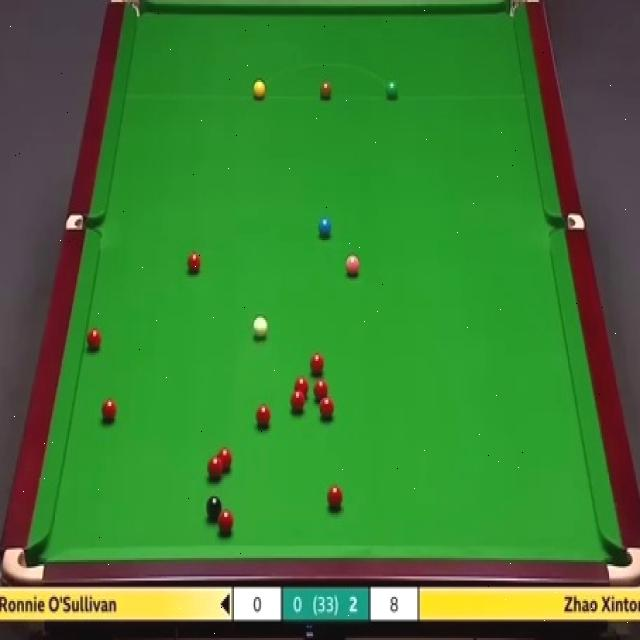black-ball: (205, 493, 223, 518)
blue-ball: (318, 216, 332, 241)
brown-ball: (319, 80, 332, 99)
green-ball: (384, 81, 398, 99)
pink-ball: (345, 256, 361, 279)
red-ball: (217, 508, 234, 540), (99, 396, 116, 422), (208, 455, 225, 479), (310, 352, 326, 376), (86, 327, 101, 352), (319, 394, 334, 419), (329, 486, 343, 512), (291, 392, 307, 414), (256, 402, 270, 427), (294, 376, 310, 397), (218, 447, 232, 471), (314, 379, 329, 401), (186, 254, 202, 273)
white-ball: (252, 314, 271, 343)
yellow-ball: (252, 80, 266, 99)
